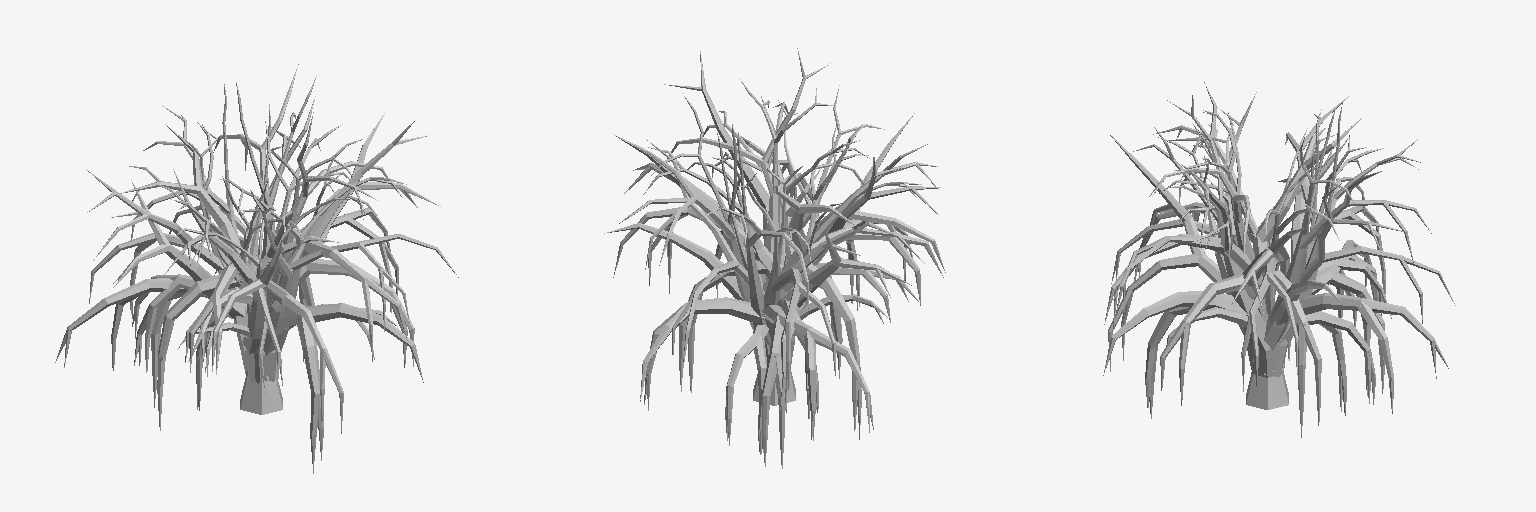
The model's file is tree24.obj.
3 views of the same model, side by side, from view 1: azimuth 30°, elevation 25°; view 2: azimuth 150°, elevation 25°; view 3: azimuth 270°, elevation 25° (orthographic).
Parts seen in each view (by area): view 1: tree; view 2: tree; view 3: tree.
Boxes of the visible parts, x1=… form: tree: x1=55, y1=64, x2=458, y2=473; tree: x1=604, y1=48, x2=945, y2=468; tree: x1=1103, y1=82, x2=1455, y2=437.
Size of the model in its own units: 9.14 by 9.45 by 8.71.